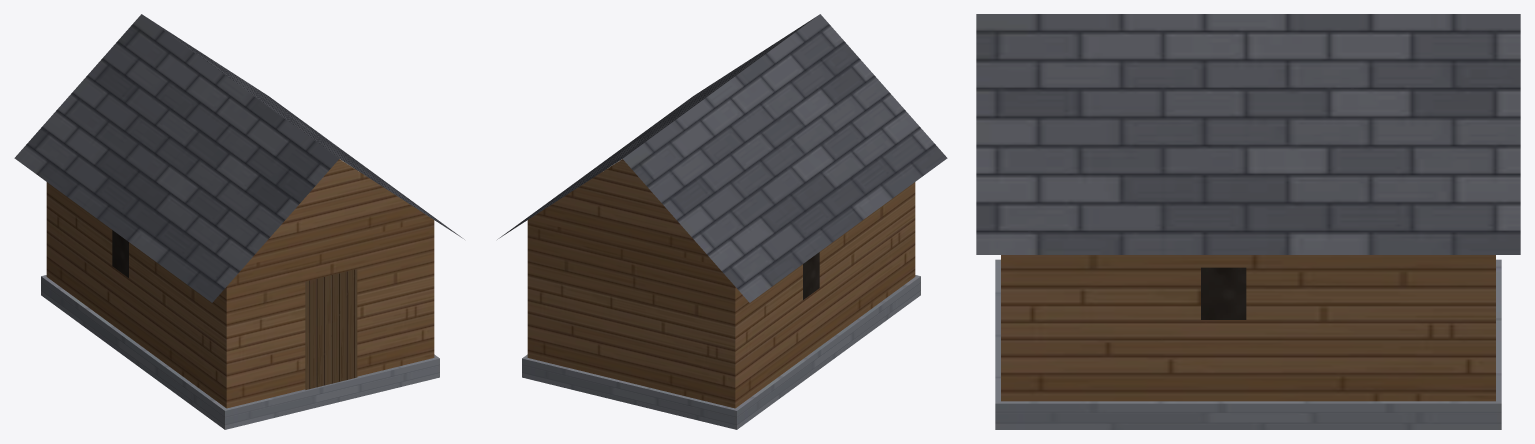
File: ae_snow_wood_medium_block_lod2.glb
3 renders of one model, left to right at view 1: azimuth 30°, elevation 25°; view 2: azimuth 150°, elevation 25°; view 3: azimuth 270°, elevation 25°, orthographic. The views are drawn at different scales.
Parts seen in each view (by area): view 1: ae_snow_wood_medium_block_lod2; view 2: ae_snow_wood_medium_block_lod2; view 3: ae_snow_wood_medium_block_lod2.
Boxes of the visible parts, x1,y1,x2,y2 form: ae_snow_wood_medium_block_lod2: (14,14,464,429); ae_snow_wood_medium_block_lod2: (497,14,947,429); ae_snow_wood_medium_block_lod2: (976,14,1520,429).
Bounding box in the file's own units: 4.9 × 4.6 × 6.6.
1 material, 1 textured.
